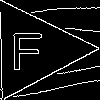F: (9, 24, 45, 70)
